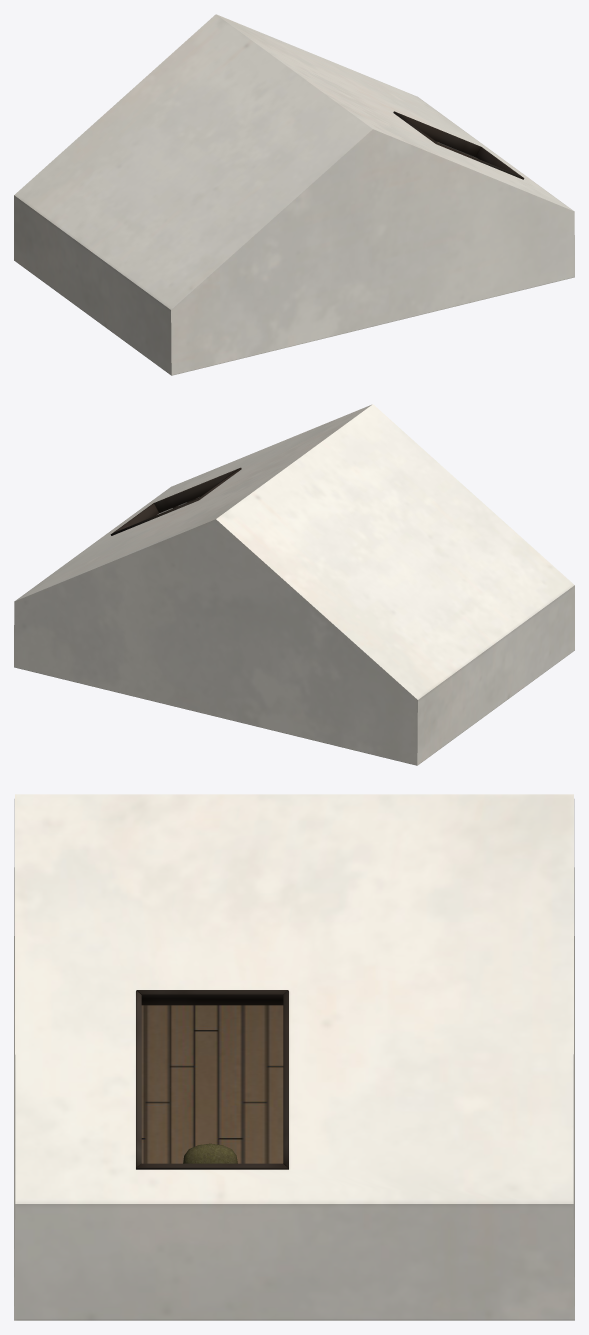
The model's file is room.glb.
The picture shows the model from 3 angles, top to bottom: view 1: azimuth 30°, elevation 25°; view 2: azimuth 150°, elevation 25°; view 3: azimuth 270°, elevation 25°; orthographic projection. The views are drawn at different scales.
Parts seen in each view (by area): view 1: Room, Room.001; view 2: Room, Room.001; view 3: Room, Room.001, Chair.
Part boxes in pixels (x1=…): Room: x1=14, y1=14, x2=574, y2=375; Room.001: x1=393, y1=111, x2=524, y2=179; Room: x1=14, y1=404, x2=574, y2=765; Room.001: x1=110, y1=467, x2=241, y2=535; Room: x1=14, y1=794, x2=574, y2=1320; Room.001: x1=136, y1=990, x2=288, y2=1169; Chair: x1=183, y1=1143, x2=237, y2=1163.
Bounding box in the file's own units: 9.06 × 4.23 × 6.13.
8 materials, 7 textured.
